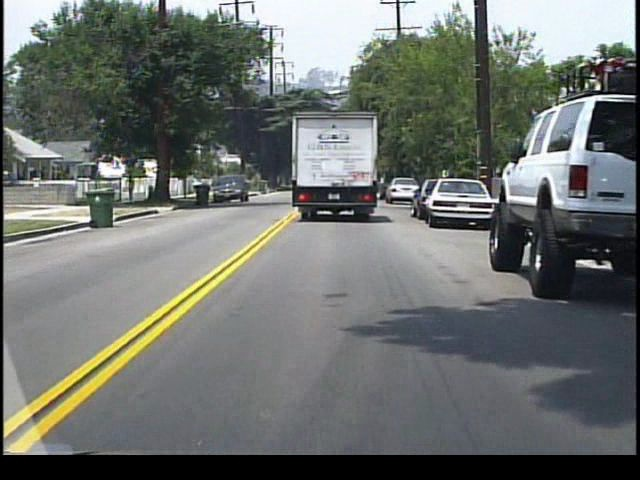person: (127, 174, 138, 204)
